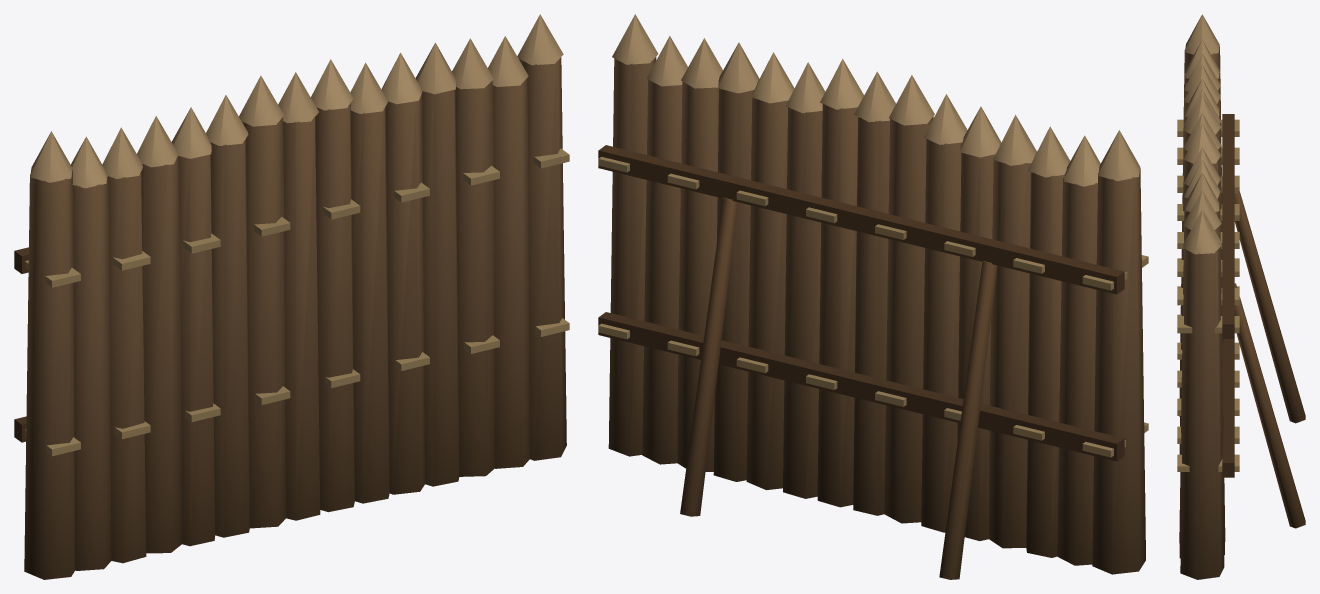
Rendered from palisade-wall.glb.
The picture shows the model from 3 angles, left to right: view 1: azimuth 30°, elevation 25°; view 2: azimuth 150°, elevation 25°; view 3: azimuth 270°, elevation 25°; orthographic projection. The views are drawn at different scales.
Parts seen in each view (by area): view 1: palisade_wall; view 2: palisade_wall; view 3: palisade_wall.
Part boxes in pixels (box(x1,y1,x2,y2)): palisade_wall: box(14, 14, 569, 579); palisade_wall: box(598, 14, 1148, 579); palisade_wall: box(1177, 14, 1305, 579).
Size of the model in its own units: 4.09 by 3.24 by 1.03.
